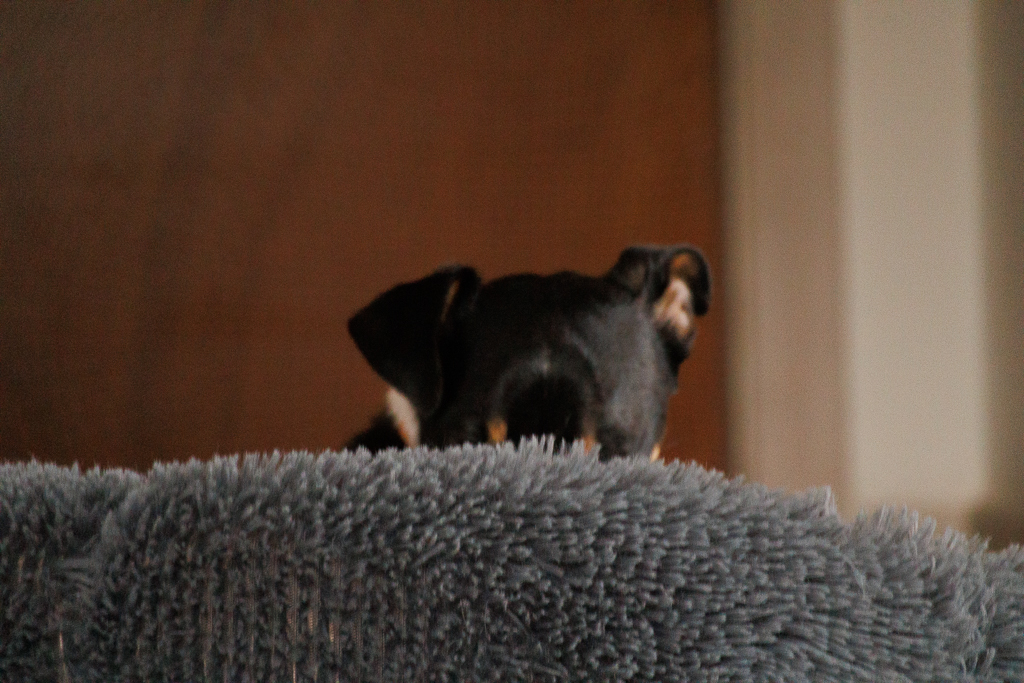Dog: (304, 221, 737, 493)
